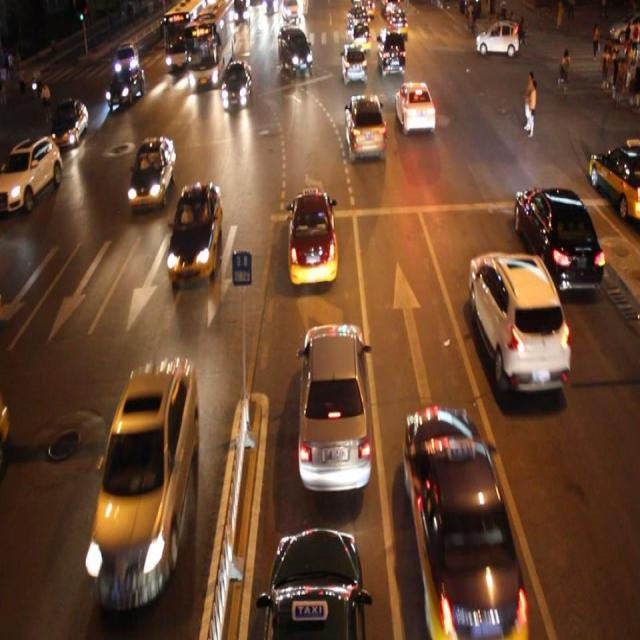car: (402, 407, 529, 632), (91, 357, 196, 597), (467, 249, 568, 399), (295, 321, 371, 492), (263, 526, 365, 640), (515, 183, 601, 296), (170, 184, 222, 284), (1, 136, 62, 214), (287, 190, 337, 285), (586, 138, 640, 220), (128, 137, 173, 208), (345, 94, 384, 160), (394, 82, 435, 133), (48, 98, 86, 148), (277, 27, 312, 74), (375, 26, 405, 76), (222, 61, 251, 110), (108, 68, 144, 105), (341, 43, 366, 84), (114, 42, 138, 74)
van: (183, 1, 236, 88)
